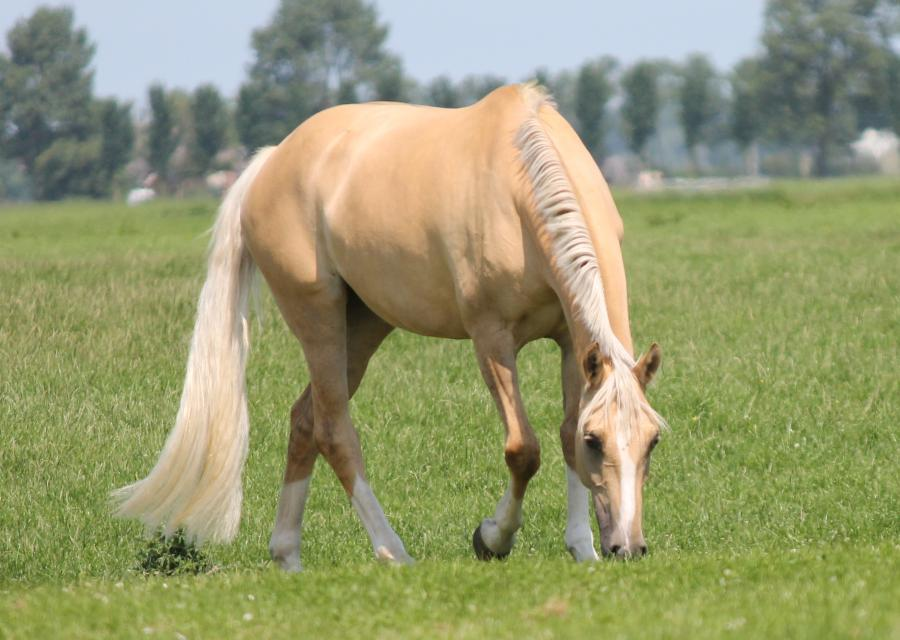horse: (106, 79, 668, 573)
